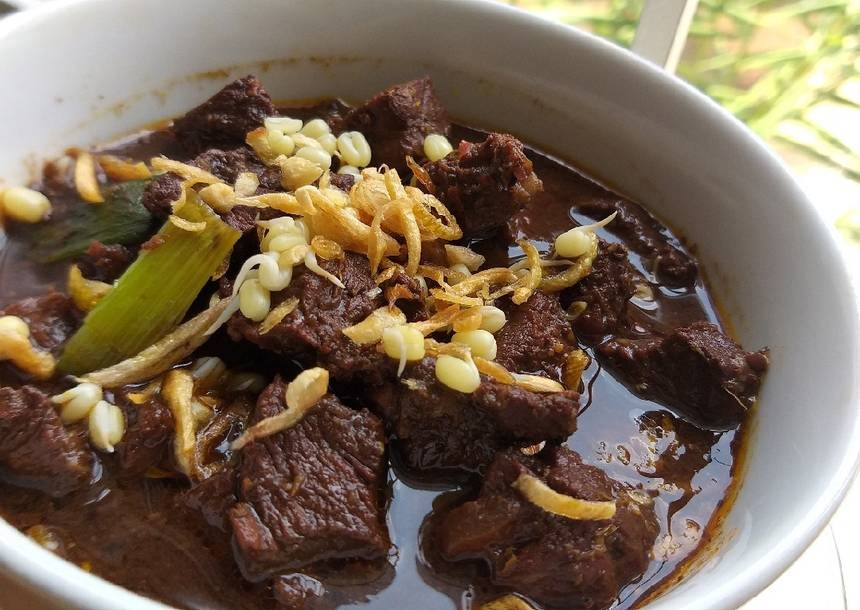rawon: (32, 92, 746, 596)
